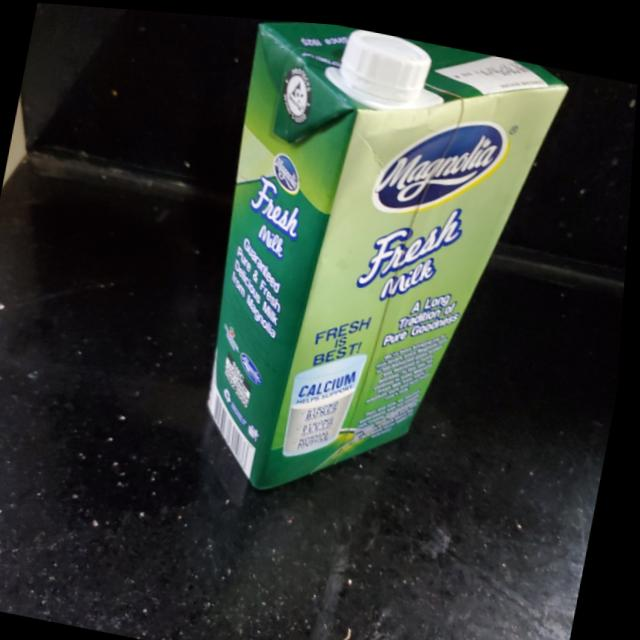milk: (178, 12, 578, 532)
